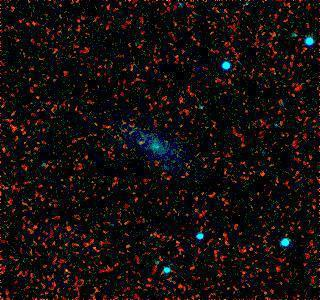star: (125, 129, 155, 159)
